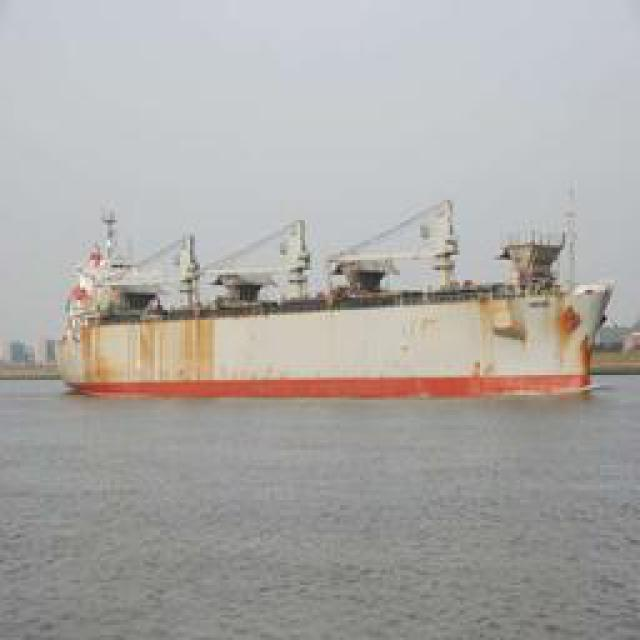Ship: (50, 189, 610, 402)
